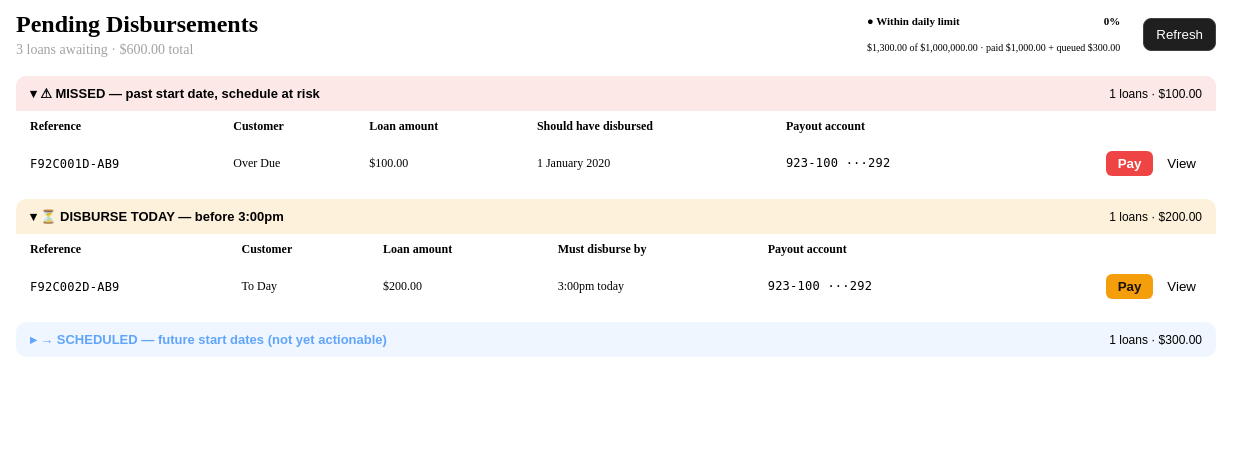
Scenario: PendingDisbursementsView › shows a stop, not payout details, for a loan the platform has cancelled
Expected: the element with test id "section-today" is shown, left=16, top=199, right=1216, bottom=308
Click the button with test id "toggle-payment-a2" at (1129, 286), box left=1106, top=274, right=1153, bottom=299
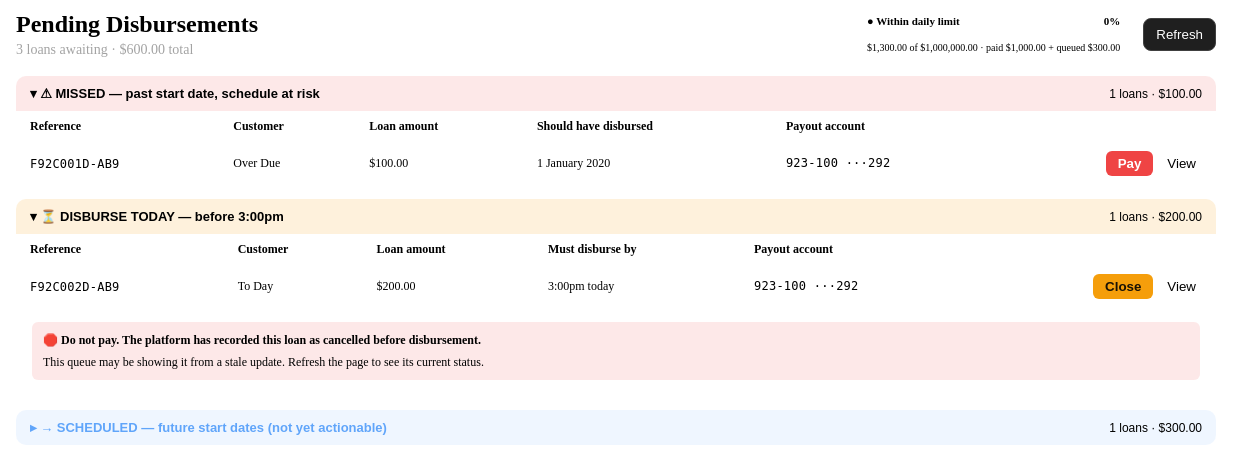
Expected: the message shows "Do not pay", left=43, top=333, right=481, bottom=347
